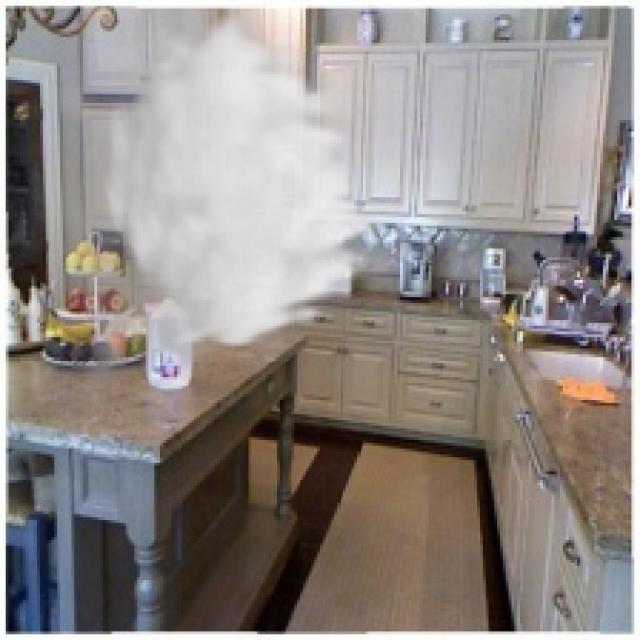smoke: (34, 11, 389, 423)
